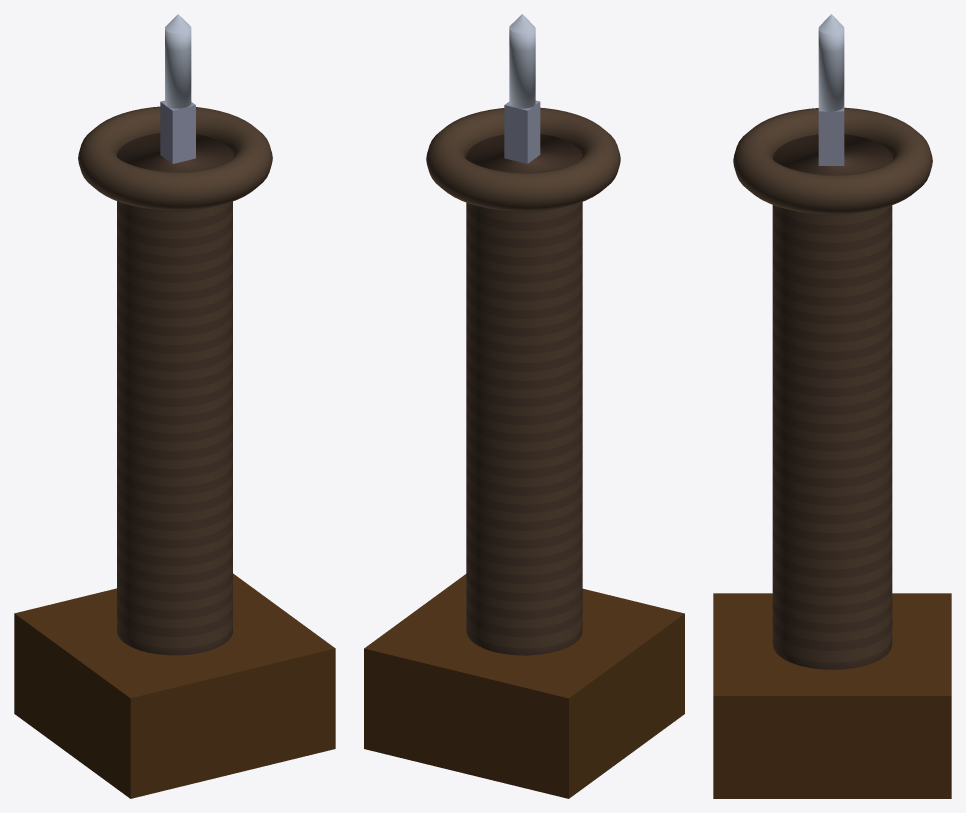
The model's file is coiltower1.fbx.
3 renders of one model, left to right at view 1: azimuth 30°, elevation 25°; view 2: azimuth 150°, elevation 25°; view 3: azimuth 270°, elevation 25°, orthographic. The views are drawn at different scales.
Visible parts, largest first — view 1: Cylinder, Cube.001, Torus, Cylinder.001, Cube; view 2: Cylinder, Cube.001, Torus, Cylinder.001, Cube; view 3: Cylinder, Cube.001, Torus, Cylinder.001, Cube.
Boxes of the visible parts, x1,y1,x2,y2 form: Cylinder: (117, 133, 232, 655); Cube.001: (14, 573, 335, 798); Torus: (78, 106, 272, 210); Cylinder.001: (165, 14, 191, 108); Cube: (160, 100, 195, 163); Cylinder: (466, 134, 582, 655); Cube.001: (364, 574, 684, 798); Torus: (426, 107, 620, 211); Cylinder.001: (509, 14, 535, 108); Cube: (504, 100, 540, 163); Cylinder: (772, 134, 892, 669); Cube.001: (713, 593, 951, 798); Torus: (733, 107, 932, 214); Cylinder.001: (818, 14, 844, 111); Cube: (818, 106, 844, 165).
Bounding box in the file's own units: 42.68 × 143 × 41.89.
